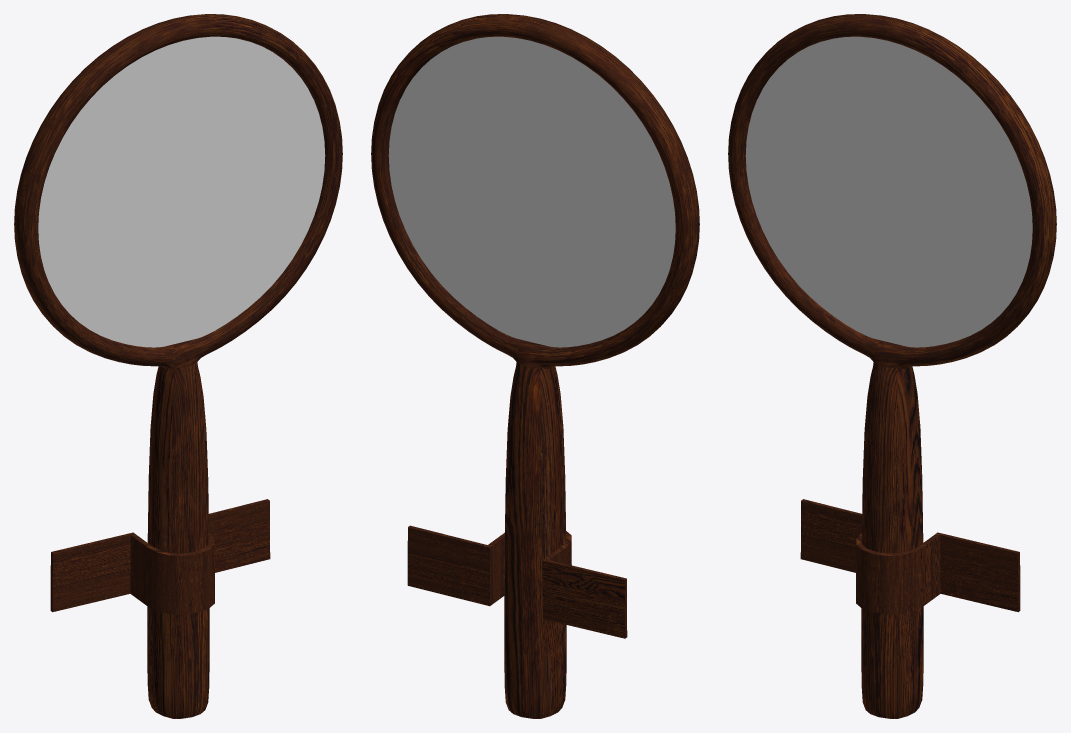
Rendered from tape.fbx.
The picture shows the model from 3 angles, left to right: view 1: azimuth 30°, elevation 25°; view 2: azimuth 150°, elevation 25°; view 3: azimuth 330°, elevation 25°; orthographic projection.
Visible parts, largest first — view 1: Lens, Frame, Frame.001; view 2: Lens, Frame, Frame.001; view 3: Lens, Frame, Frame.001.
Boxes of the visible parts, x1=… form: Lens: x1=38, y1=36, x2=325, y2=347; Frame: x1=14, y1=14, x2=342, y2=718; Frame.001: x1=50, y1=499, x2=270, y2=614; Lens: x1=388, y1=36, x2=675, y2=347; Frame: x1=371, y1=14, x2=699, y2=718; Frame.001: x1=407, y1=525, x2=627, y2=638; Lens: x1=745, y1=36, x2=1032, y2=347; Frame: x1=728, y1=14, x2=1056, y2=718; Frame.001: x1=800, y1=499, x2=1020, y2=614.
Size of the model in its own units: 9.74 by 19.91 by 2.
